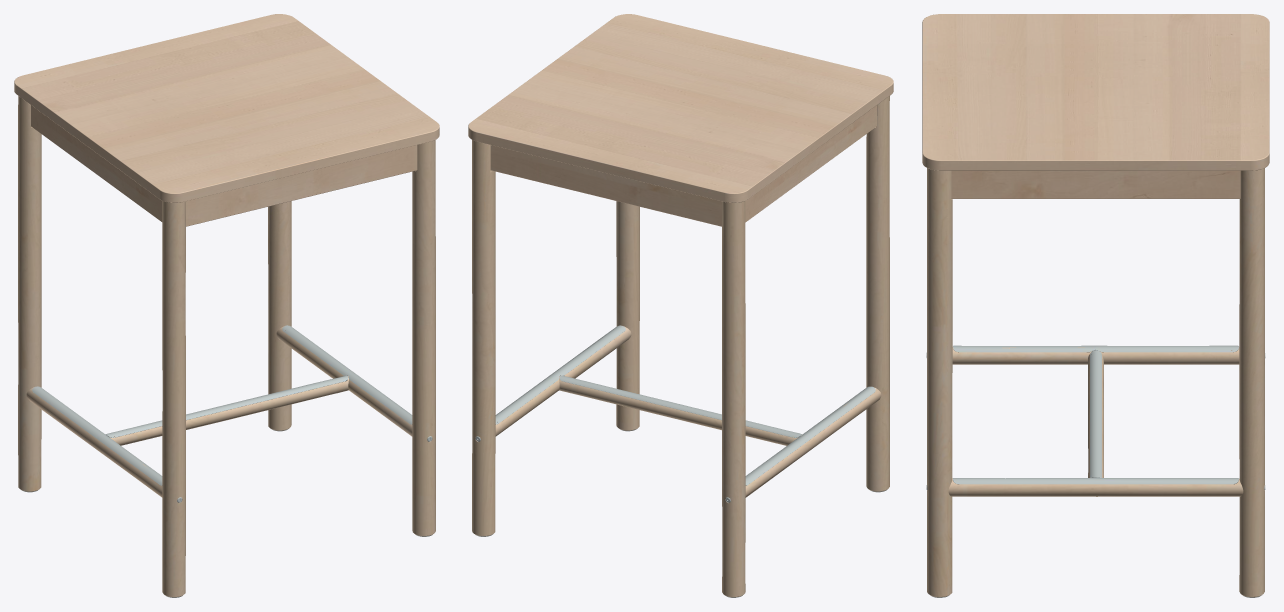
The model's file is ronninge_sto_barowy_50511230.glb.
3 views of the same model, side by side, from view 1: azimuth 30°, elevation 25°; view 2: azimuth 150°, elevation 25°; view 3: azimuth 270°, elevation 25° (orthographic). The views are drawn at different scales.
Visible parts, largest first — view 1: ronninge_sto_barowy_50511230; view 2: ronninge_sto_barowy_50511230; view 3: ronninge_sto_barowy_50511230.
Boxes of the visible parts, x1,y1,x2,y2 form: ronninge_sto_barowy_50511230: (14, 14, 439, 597); ronninge_sto_barowy_50511230: (468, 14, 893, 597); ronninge_sto_barowy_50511230: (922, 14, 1269, 597).
Size of the model in its own units: 0.75 by 1.05 by 0.75.
1 material, 1 textured.
